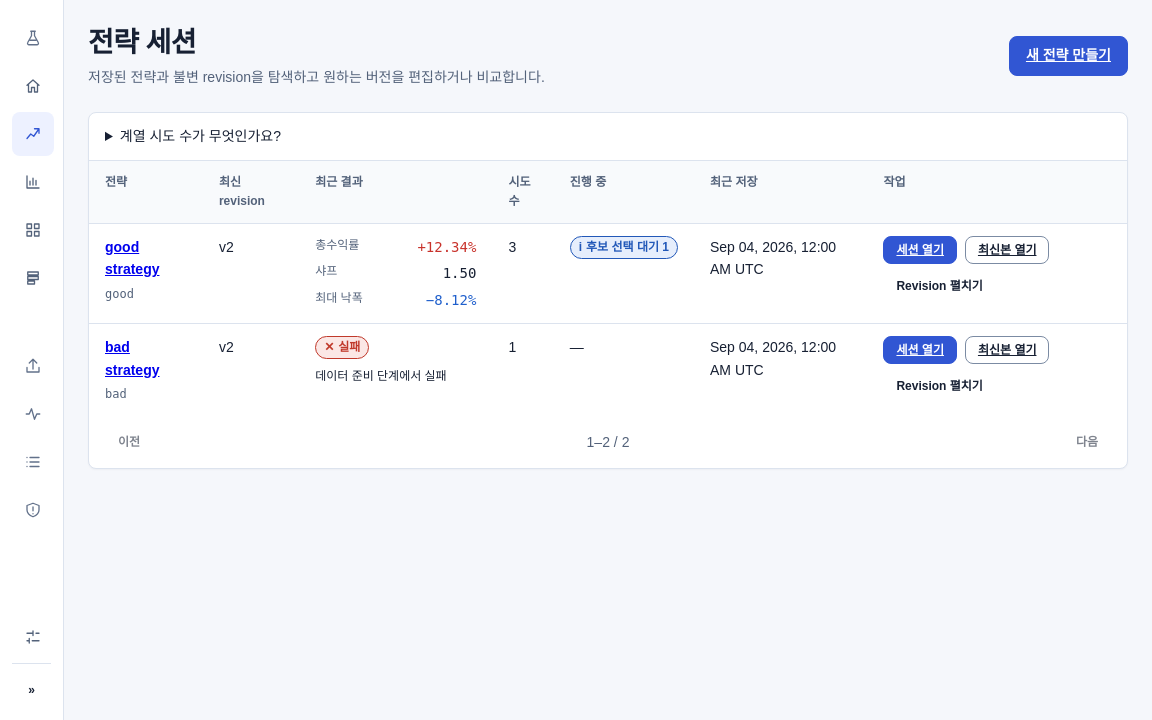
Test case: App Shell routes › shows each strategy's latest result, trial count and waiting experiments in the session list
Check: the row "good strategy" shows "12.34%", box x1=426 y1=239 x2=476 y2=255
Check: the text "3" is shown, box x1=492 y1=224 x2=554 y2=324
Click the heading "계열 시도 수가 무엇인가요?".
click(193, 136)  # box x1=105 y1=125 x2=281 y2=148
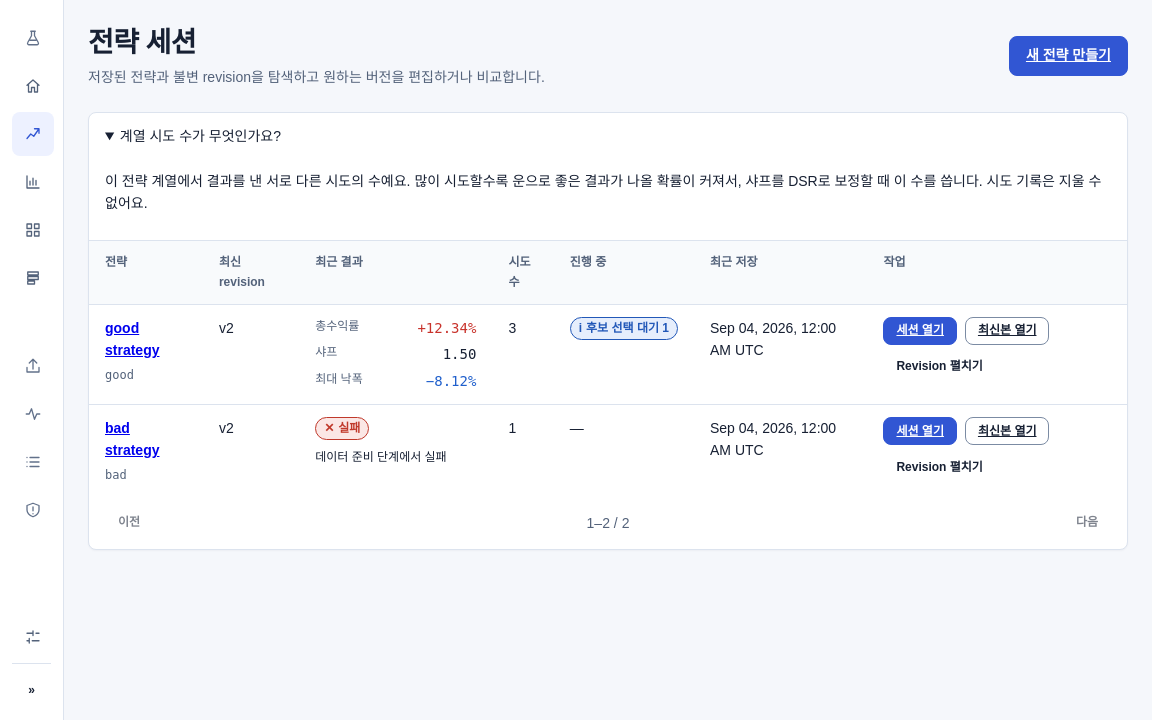
Check: the text "DSR로 보정할 때 이 수를 씁니다" is shown, box x1=105 y1=173 x2=1101 y2=211
